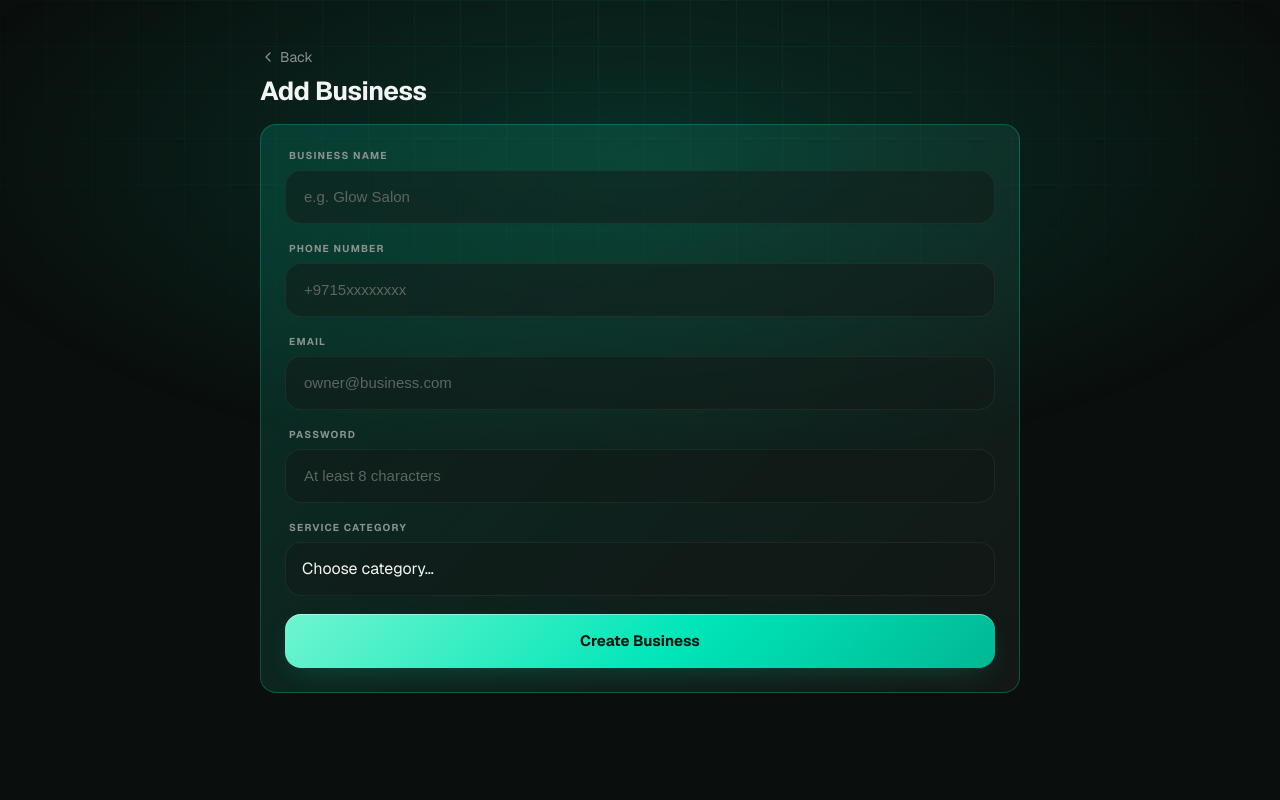
Test: MasterShopCreate › blocks submit without a business name
Click the button "Create Business": (640,640) [285,614,995,668]
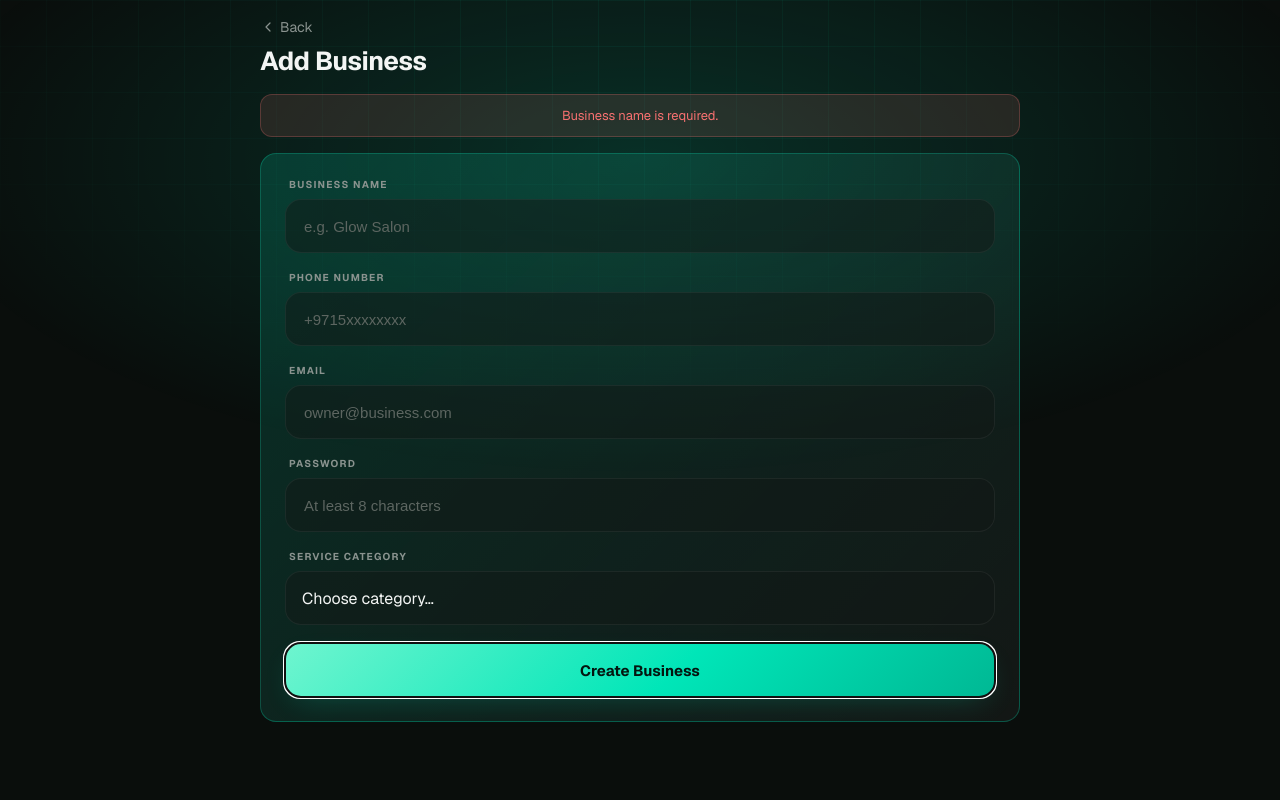
Expected: the text "Business name is required." is shown, [260,94,1020,137]
